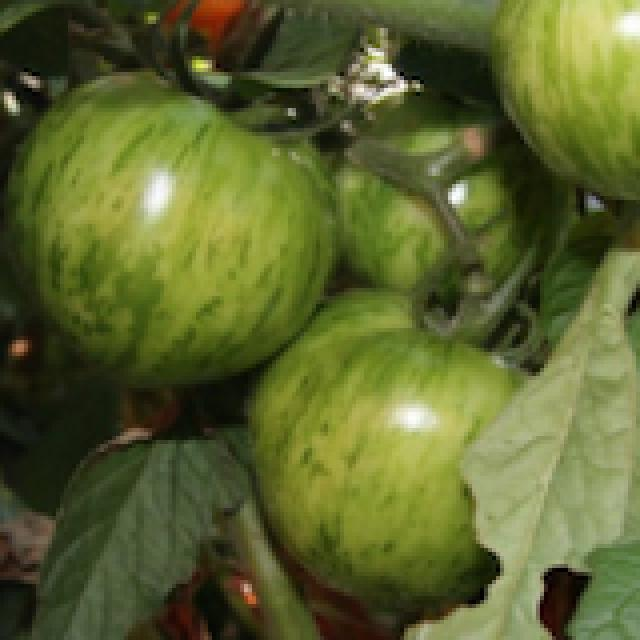yesil: (2, 51, 565, 624)
